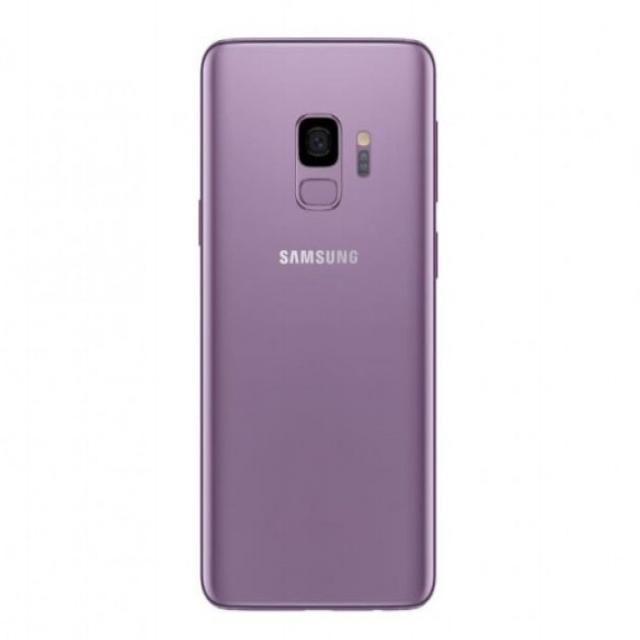phone: (200, 36, 438, 612)
